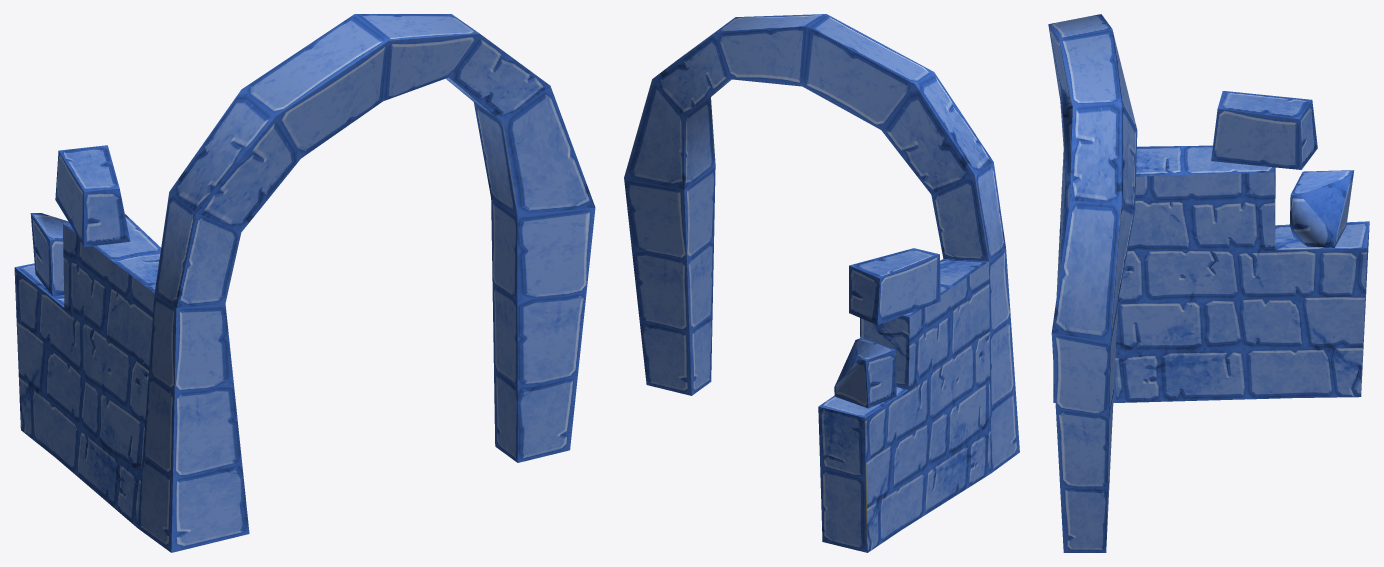
File: Toon_Arch_02.fbx
3 views of the same model, side by side, from view 1: azimuth 30°, elevation 25°; view 2: azimuth 150°, elevation 25°; view 3: azimuth 270°, elevation 25° (orthographic). The views are drawn at different scales.
Parts seen in each view (by area): view 1: Toon_Arch_02; view 2: Toon_Arch_02; view 3: Toon_Arch_02.
Boxes of the visible parts, <box> form: Toon_Arch_02: <box>14,14,595,552</box>; Toon_Arch_02: <box>624,14,1019,552</box>; Toon_Arch_02: <box>1048,14,1369,552</box>.
Size of the model in its own units: 10.96 by 11.34 by 7.56.
